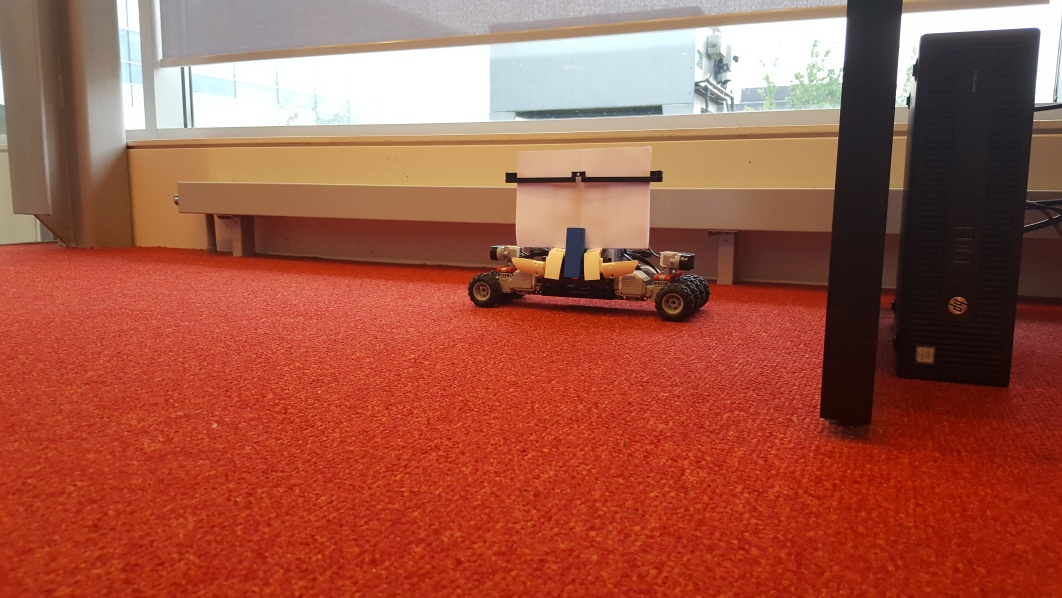car: (467, 147, 710, 323)
